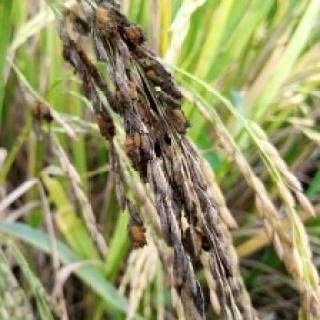Gosong-Palsu: (60, 0, 254, 319), (23, 95, 62, 132)
